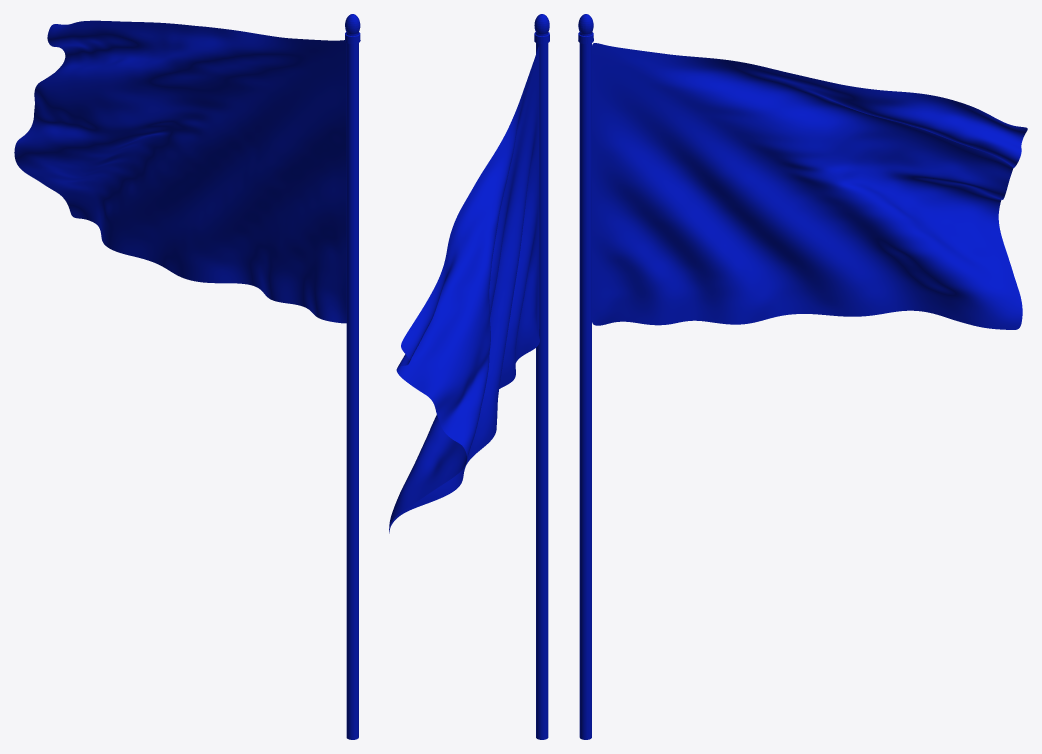
Rendered from blue_flag.glb.
3 renders of one model, left to right at view 1: azimuth 30°, elevation 25°; view 2: azimuth 150°, elevation 25°; view 3: azimuth 270°, elevation 25°, orthographic.
Parts seen in each view (by area): view 1: steag, stick; view 2: steag, stick; view 3: steag, stick.
Part boxes in pixels (box(x1,y1,x2,y2)): steag: box(14, 20, 346, 323); stick: box(345, 14, 360, 739); steag: box(389, 47, 539, 533); stick: box(534, 14, 549, 739); steag: box(592, 43, 1027, 329); stick: box(578, 14, 593, 739).
Size of the model in its own units: 0.4066 by 2.03 by 1.14.
